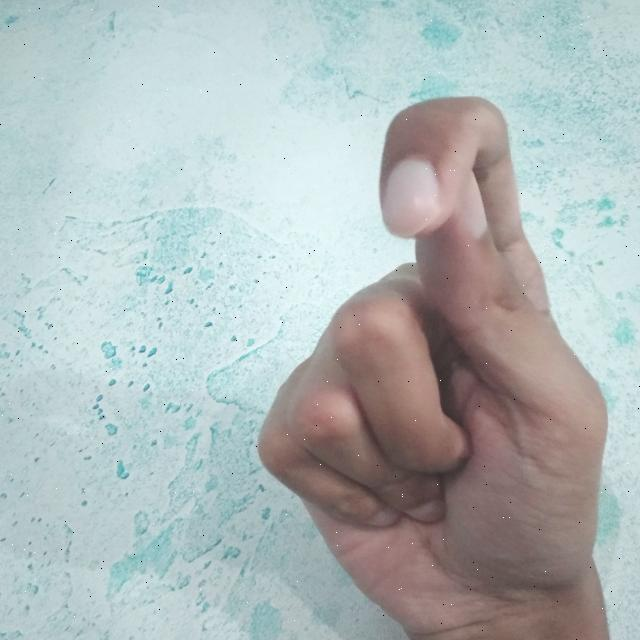T: (247, 90, 612, 640)
